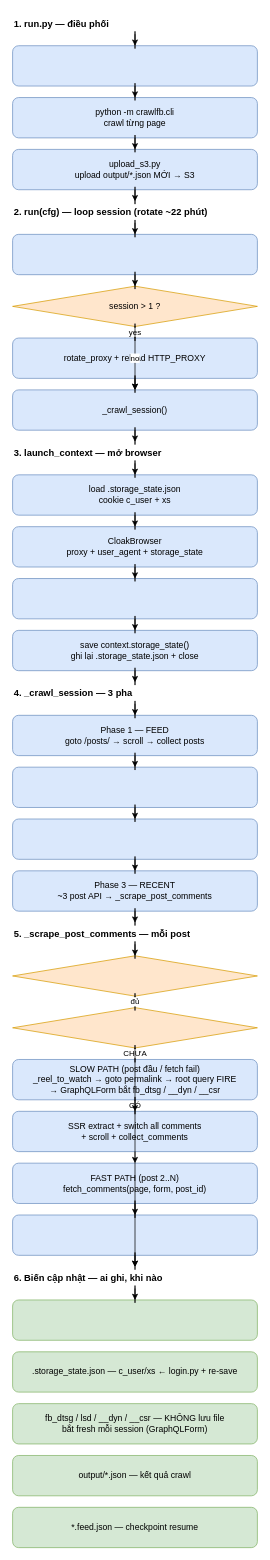
This 270x1560 diagram has some shape labels left out. The shapes that lost their labels are listed below. From the top down, each one's box as (x1, y1, x2, y2) in pixels, then its label:
(12, 45, 257, 86): rotate_proxy.py ghi HTTP_PROXY mới → .env
(12, 234, 257, 275): load .env + _resolve_tuning (CLI > env > default) build Config per page
(12, 578, 257, 619): page mới
(12, 766, 257, 807): attach CommentInterceptor attach GraphQLForm (form = None)
(12, 818, 257, 859): Phase 2 — COMMENT loop post → _scrape_post_comments
(12, 955, 257, 996): post_id / post_url rỗng ?
(12, 1007, 257, 1048): form_capture.form đã bắt chưa ?
(12, 1214, 257, 1255): root query → paginate cursor → records_from_nodes
(12, 1299, 257, 1340): .env — HTTP_PROXY ← rotate_proxy.py
